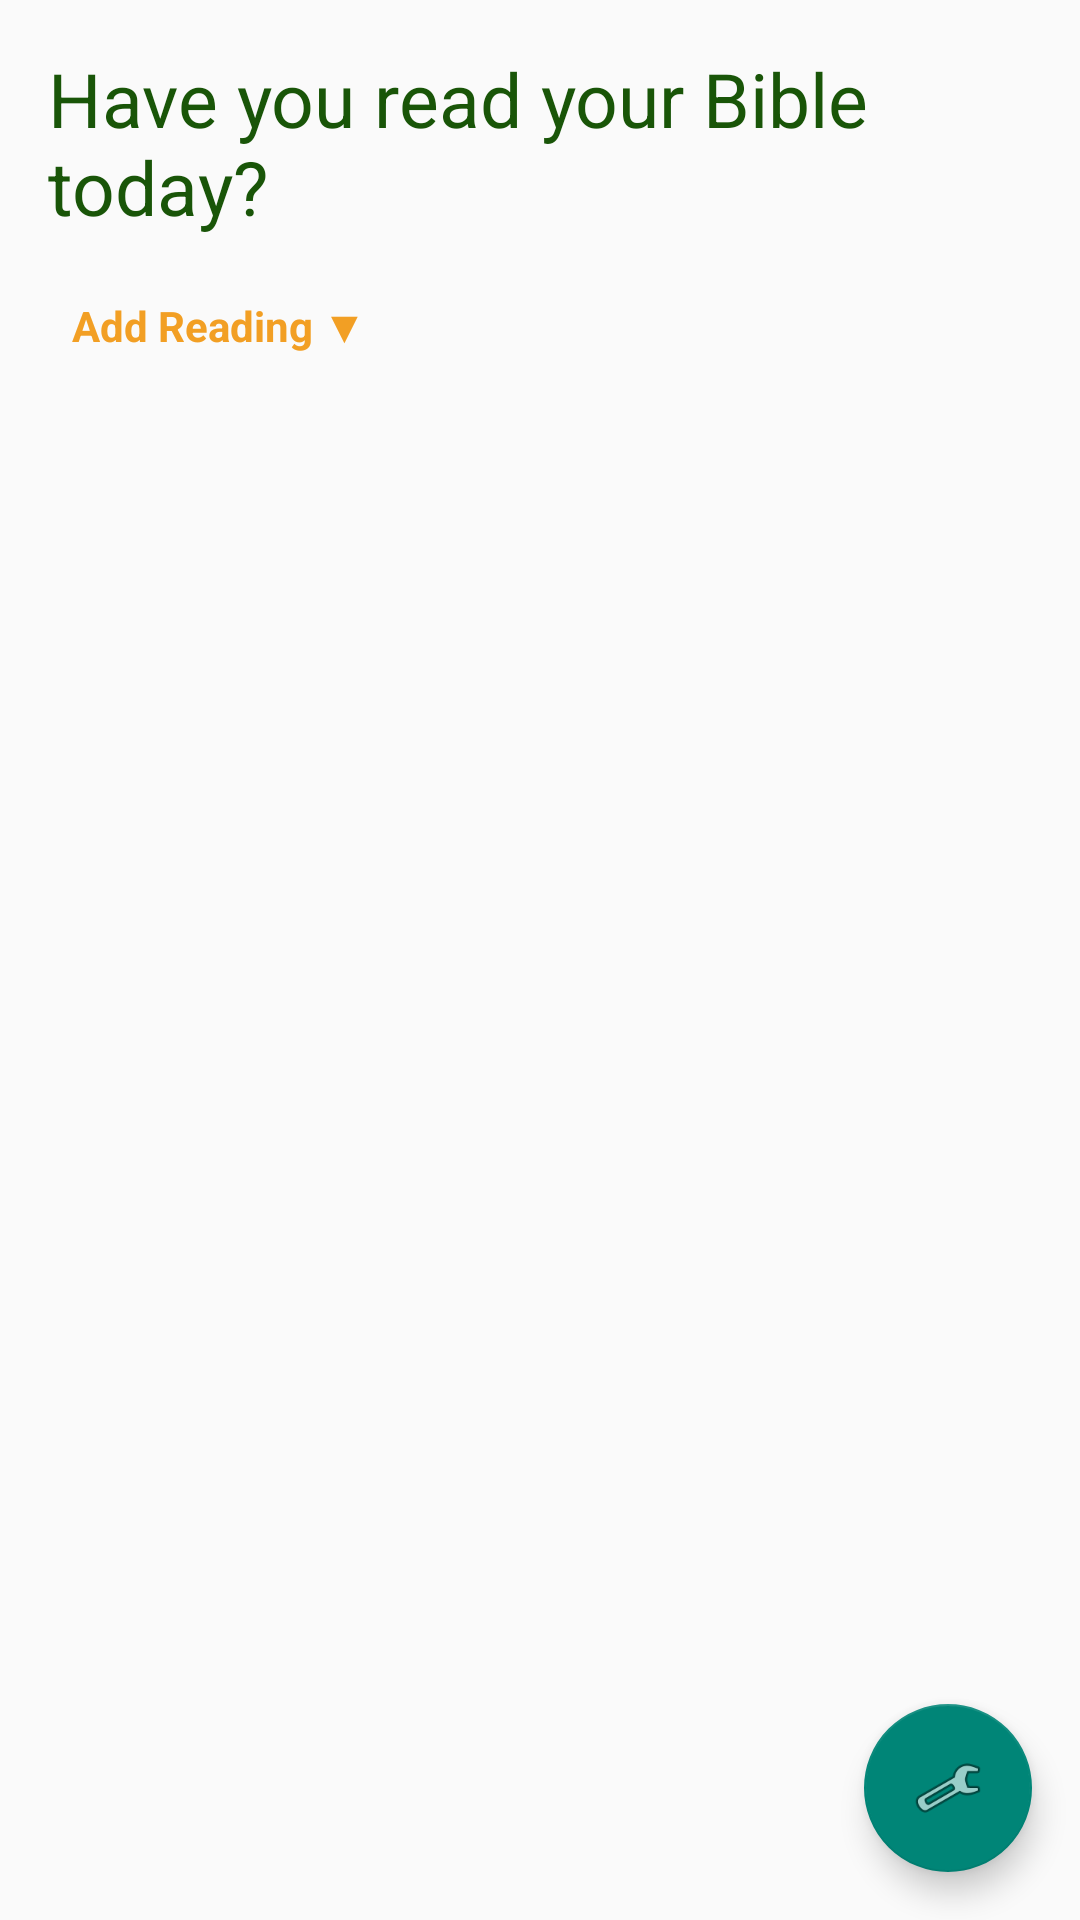

Icon bounding boxes for this 1080px×1920px phone screenshot, format (x1, y1, x2, y2):
Settings: (864, 1704, 1032, 1872)
